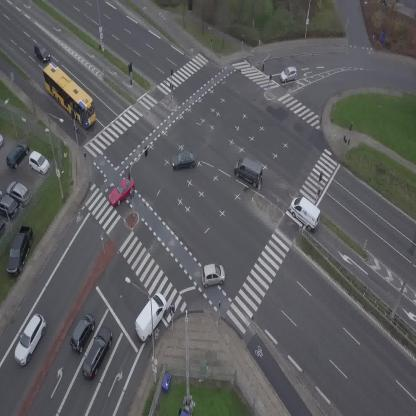bus: (34, 60, 105, 130)
car: (9, 312, 51, 368), (77, 325, 117, 383), (65, 310, 100, 355), (104, 175, 139, 208), (199, 261, 227, 288), (30, 41, 53, 66), (170, 150, 196, 170), (279, 66, 298, 83)
lorry: (128, 290, 173, 344), (284, 192, 327, 233), (229, 154, 270, 191)
